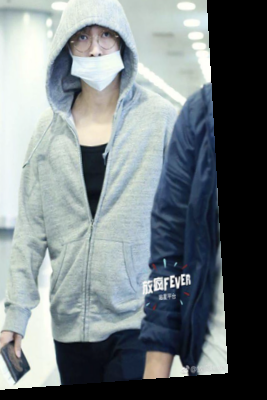mask_weared_incorrect: (39, 1, 140, 95)
